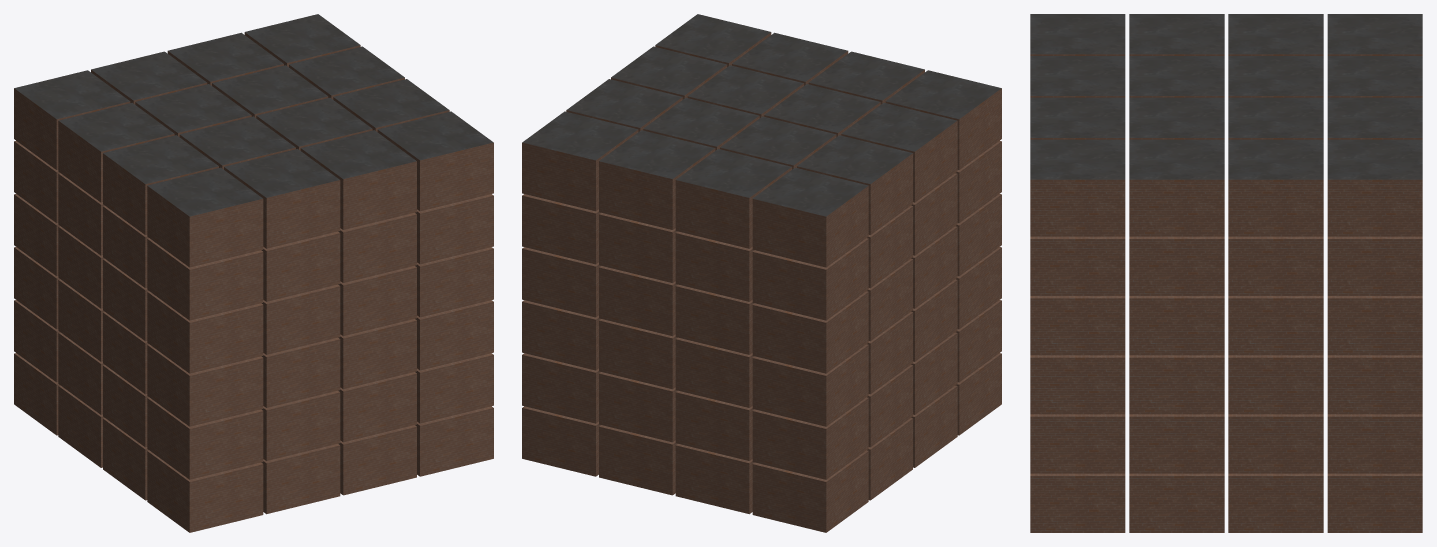
File: Building_Medium_2_001_destructible.gltf
3 renders of one model, left to right at view 1: azimuth 30°, elevation 25°; view 2: azimuth 150°, elevation 25°; view 3: azimuth 270°, elevation 25°, orthographic. The views are drawn at different scales.
Parts seen in each view (by area): view 1: block_f5_r3_c0, block_f5_r3_c1, block_f5_r3_c2, block_f5_r3_c3, block_f0_r3_c0, block_f1_r3_c0, block_f2_r3_c0, block_f4_r3_c0, block_f3_r3_c0, block_f5_r1_c0, block_f5_r0_c0, block_f5_r2_c0 (+39 smaller); view 2: block_f5_r0_c0, block_f5_r0_c1, block_f5_r0_c2, block_f5_r0_c3, block_f0_r0_c0, block_f1_r0_c0, block_f2_r0_c0, block_f4_r0_c0, block_f3_r0_c0, block_f5_r2_c0, block_f5_r3_c0, block_f5_r1_c0 (+39 smaller); view 3: block_f5_r1_c3, block_f5_r2_c3, block_f5_r0_c3, block_f5_r3_c3, block_f0_r1_c3, block_f0_r2_c3, block_f1_r0_c3, block_f1_r1_c3, block_f1_r2_c3, block_f1_r3_c3, block_f2_r1_c3, block_f2_r2_c3 (+24 smaller).
Boxes of the visible parts, box(x1,y1,x2,y2) form: block_f5_r3_c0: box(147, 167, 263, 267); block_f5_r3_c1: box(224, 149, 340, 248); block_f5_r3_c2: box(300, 130, 416, 229); block_f5_r3_c3: box(377, 111, 493, 211); block_f0_r3_c0: box(147, 450, 263, 532); block_f1_r3_c0: box(147, 397, 263, 479); block_f2_r3_c0: box(147, 344, 263, 426); block_f4_r3_c0: box(147, 238, 263, 320); block_f3_r3_c0: box(147, 291, 263, 373); block_f5_r1_c0: box(58, 103, 174, 202); block_f5_r0_c0: box(14, 70, 130, 169); block_f5_r2_c0: box(103, 135, 218, 234); block_f5_r0_c0: box(752, 167, 868, 267); block_f5_r0_c1: box(675, 149, 791, 248); block_f5_r0_c2: box(599, 130, 715, 229); block_f5_r0_c3: box(522, 111, 638, 211); block_f0_r0_c0: box(752, 450, 868, 532); block_f1_r0_c0: box(752, 397, 868, 479); block_f2_r0_c0: box(752, 344, 868, 426); block_f4_r0_c0: box(752, 238, 868, 320); block_f3_r0_c0: box(752, 291, 868, 373); block_f5_r2_c0: box(841, 103, 957, 202); block_f5_r3_c0: box(885, 70, 1001, 169); block_f5_r1_c0: box(797, 135, 912, 234); block_f5_r1_c3: box(1228, 139, 1323, 236); block_f5_r2_c3: box(1129, 139, 1224, 236); block_f5_r0_c3: box(1327, 139, 1422, 236); block_f5_r3_c3: box(1030, 139, 1125, 236); block_f0_r1_c3: box(1228, 473, 1323, 532); block_f0_r2_c3: box(1129, 473, 1224, 532); block_f1_r0_c3: box(1327, 414, 1422, 473); block_f1_r1_c3: box(1228, 414, 1323, 473); block_f1_r2_c3: box(1129, 414, 1224, 473); block_f1_r3_c3: box(1030, 414, 1125, 473); block_f2_r1_c3: box(1228, 355, 1323, 414); block_f2_r2_c3: box(1129, 355, 1224, 414).
Bounding box in the file's own units: 10.39 × 10.33 × 10.39.
3 materials, 3 textured.
